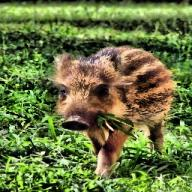boar: (49, 45, 177, 179)
